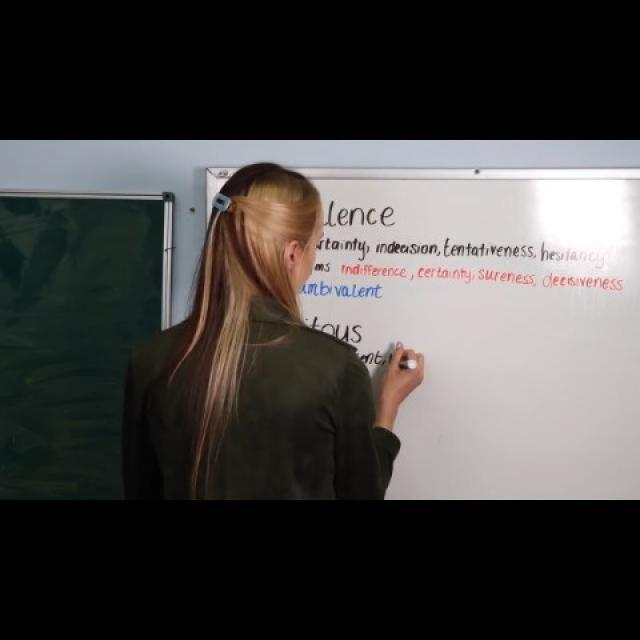Instructor: (171, 162, 336, 506)
White-board: (208, 172, 640, 506)
